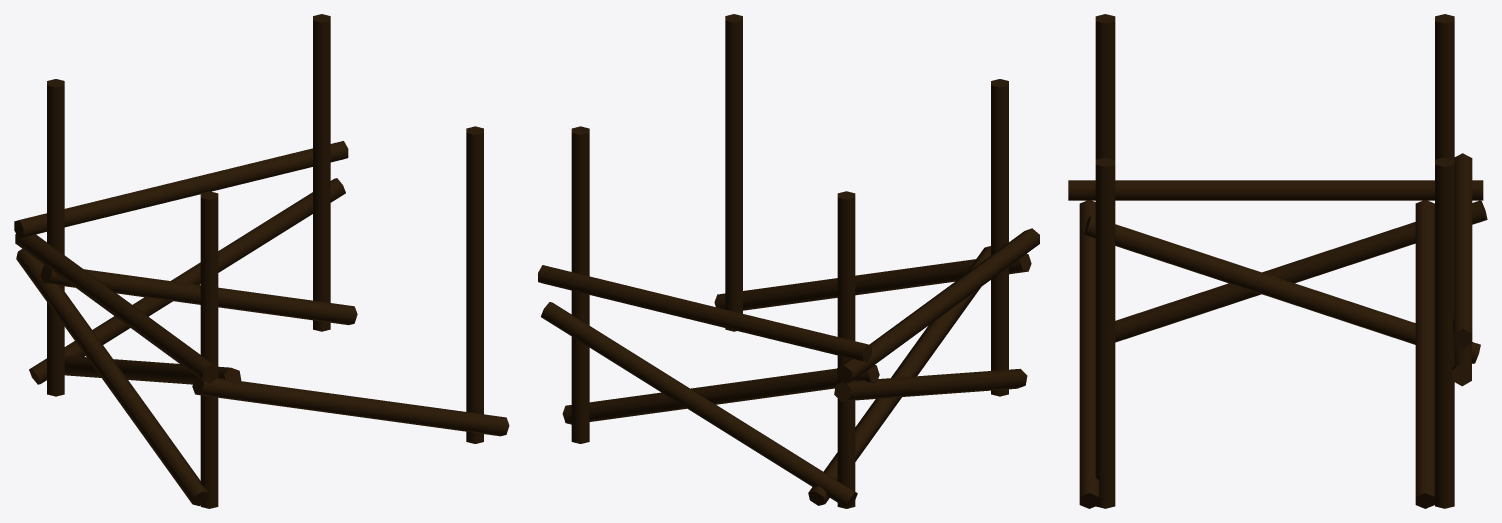
Rendered from BuildingSite2.obj.
3 renders of one model, left to right at view 1: azimuth 30°, elevation 25°; view 2: azimuth 150°, elevation 25°; view 3: azimuth 270°, elevation 25°, orthographic. The views are drawn at different scales.
Visible parts, largest first — view 1: Cylinder109, Cylinder113, Cylinder103, Cylinder098, Cylinder099, Cylinder101, Cylinder100, Cylinder105, Cylinder097, Cylinder107, Cylinder112; view 2: Cylinder107, Cylinder103, Cylinder099, Cylinder098, Cylinder100, Cylinder101, Cylinder109, Cylinder105, Cylinder097, Cylinder112, Cylinder113; view 3: Cylinder105, Cylinder099, Cylinder112, Cylinder098, Cylinder113, Cylinder101, Cylinder109, Cylinder103, Cylinder100, Cylinder097, Cylinder107.
Boxes of the visible parts, left/top/right/bottom form: Cylinder109: left=192, top=377, right=509, bottom=436; Cylinder113: left=16, top=248, right=209, bottom=505; Cylinder103: left=14, top=141, right=348, bottom=238; Cylinder098: left=313, top=14, right=330, bottom=331; Cylinder099: left=466, top=126, right=483, bottom=443; Cylinder101: left=40, top=265, right=357, bottom=325; Cylinder100: left=200, top=191, right=218, bottom=508; Cylinder105: left=15, top=234, right=218, bottom=383; Cylinder097: left=47, top=79, right=64, bottom=396; Cylinder107: left=29, top=178, right=345, bottom=384; Cylinder112: left=64, top=355, right=241, bottom=384; Cylinder107: left=541, top=302, right=857, bottom=508; Cylinder103: left=538, top=265, right=871, bottom=362; Cylinder099: left=725, top=14, right=742, bottom=331; Cylinder098: left=571, top=126, right=589, bottom=443; Cylinder100: left=991, top=79, right=1008, bottom=396; Cylinder101: left=562, top=365, right=879, bottom=424; Cylinder109: left=714, top=253, right=1031, bottom=310; Cylinder105: left=837, top=228, right=1039, bottom=383; Cylinder097: left=837, top=191, right=855, bottom=508; Cylinder112: left=808, top=246, right=990, bottom=505; Cylinder113: left=834, top=368, right=1027, bottom=401; Cylinder105: left=1068, top=180, right=1483, bottom=200; Cylinder099: left=1095, top=157, right=1115, bottom=508; Cylinder112: left=1084, top=216, right=1480, bottom=363; Cylinder098: left=1435, top=157, right=1454, bottom=508; Cylinder113: left=1115, top=200, right=1487, bottom=342; Cylinder101: left=1415, top=200, right=1434, bottom=508; Cylinder109: left=1079, top=200, right=1099, bottom=508; Cylinder103: left=1453, top=153, right=1472, bottom=348; Cylinder100: left=1095, top=14, right=1115, bottom=159; Cylinder097: left=1435, top=14, right=1454, bottom=159; Cylinder107: left=1452, top=344, right=1471, bottom=386.
Size of the model in its own units: 11 by 10 by 11.11.
